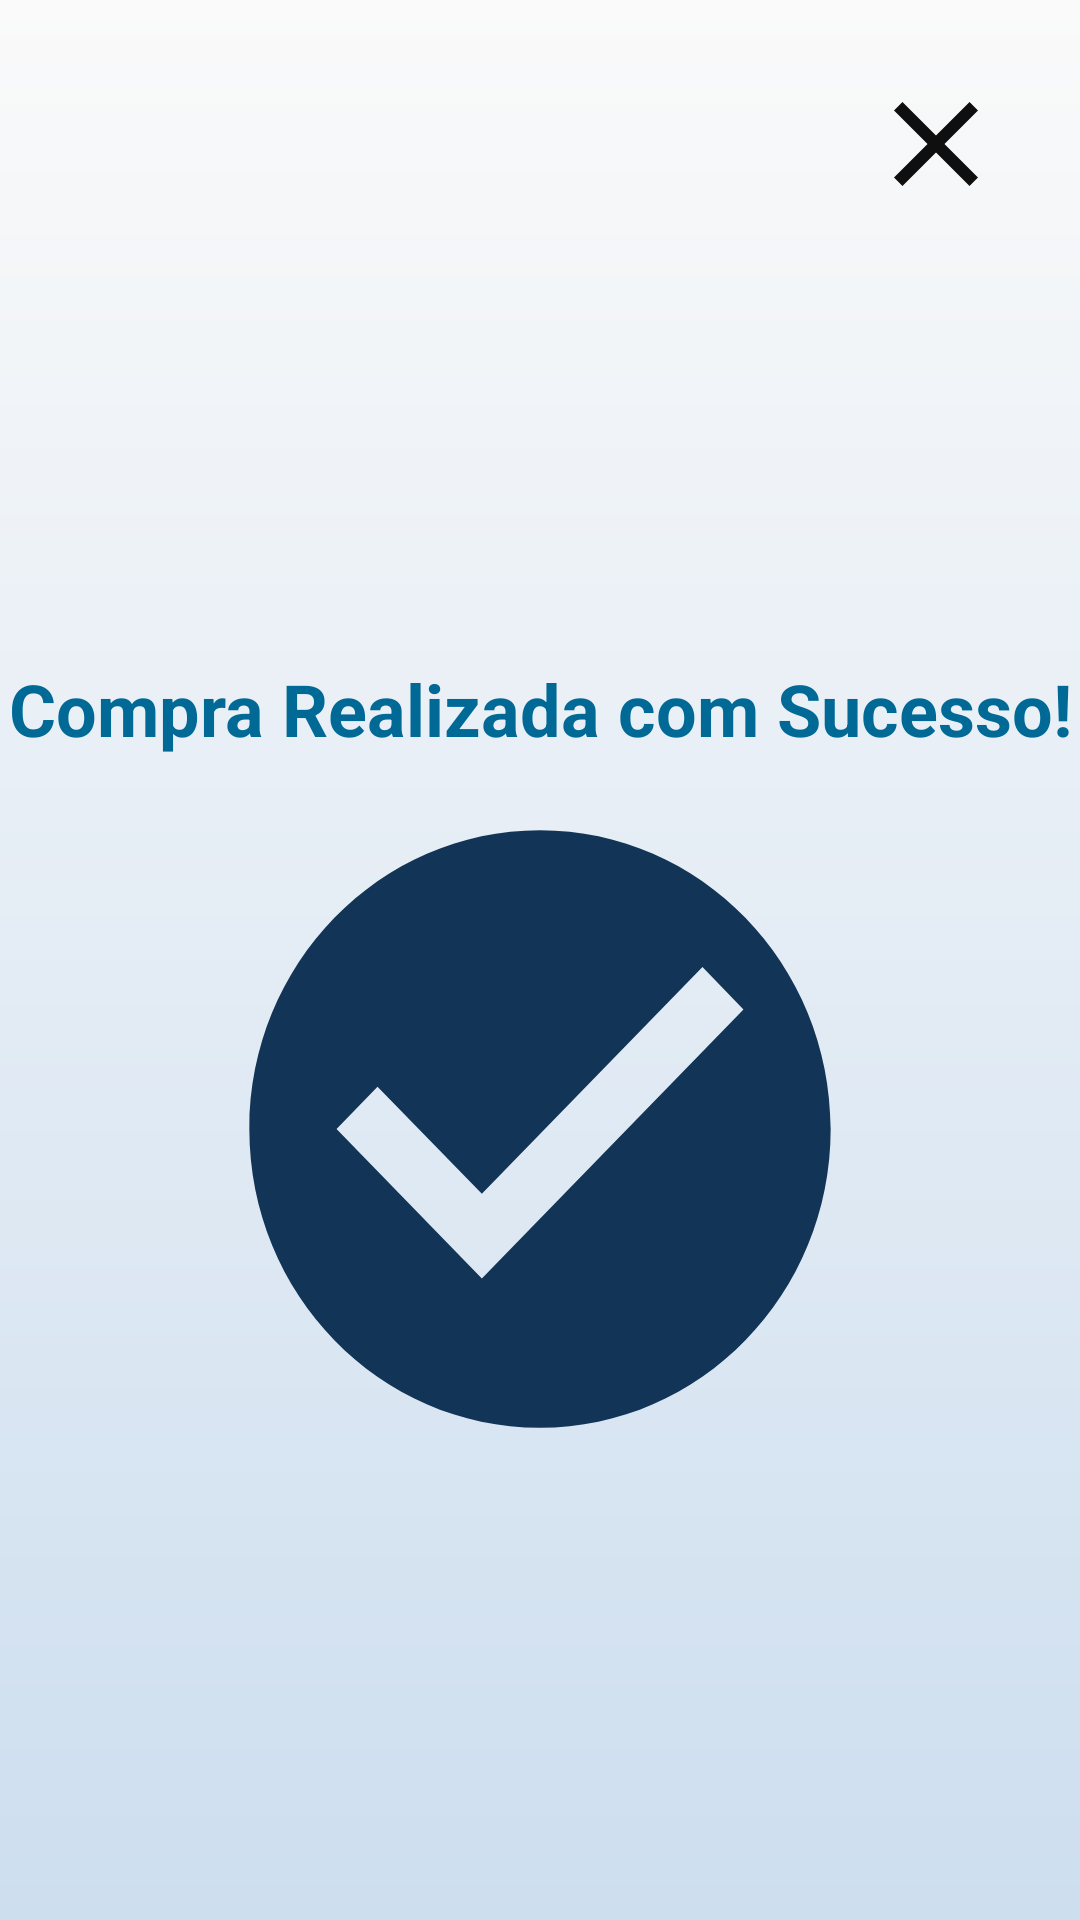

Icon click points for this 1080 x 1920 phone screenshot, format (x=x, y=y):
cancel: (x=936, y=144)
